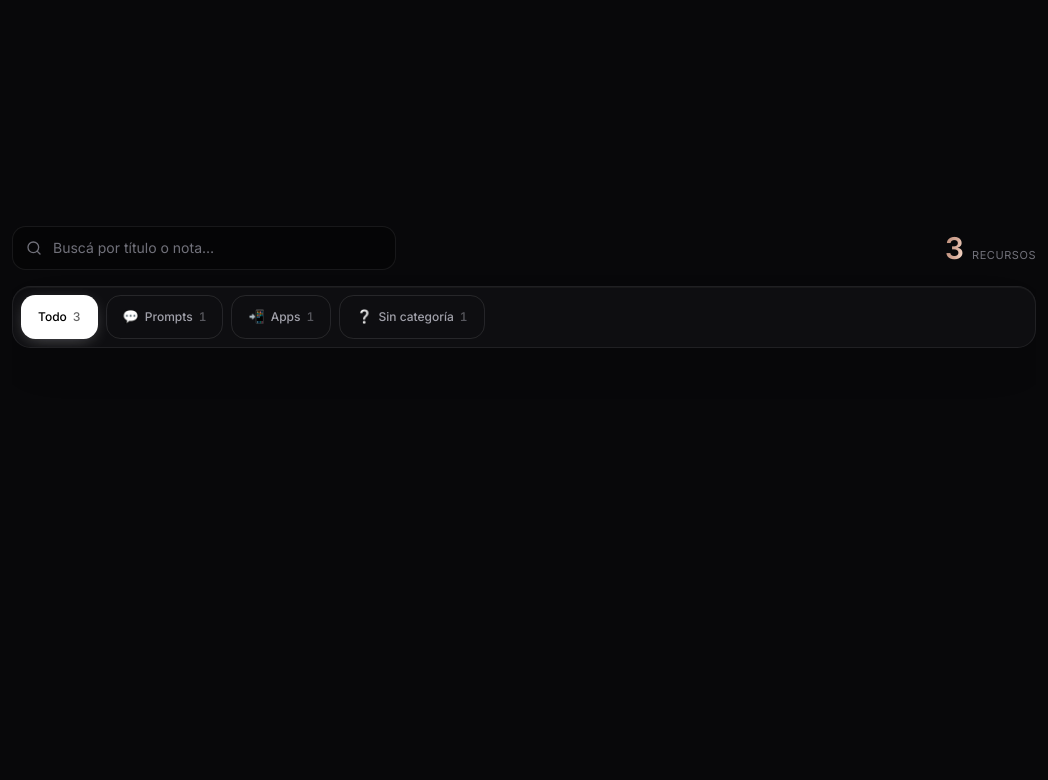
Test: ToolsPage dynamic categories › renders persisted filters with canonical counts and an uncategorized bucket
The width and height of the screenshot is (1048, 780).
expect the button "💬 Prompts 1" is shown: met, box [106,295,224,339]
expect the button "❔ Sin categoría 1" is shown: met, box [339,295,485,339]
What coordinates should you click on to do the following:
click the button "📲 Apps 1"
I would click on:
 (281, 317)
Its box is [232,295,331,339].
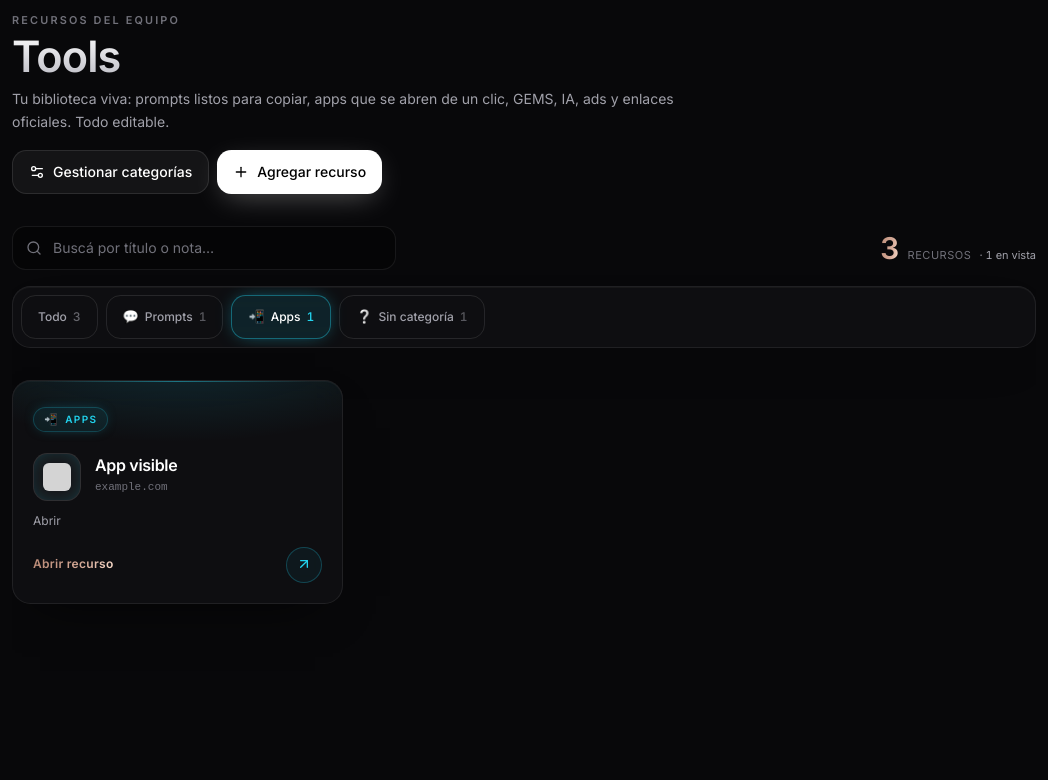
expect the heading "App visible" is shown: met, box [95,455,177,475]
